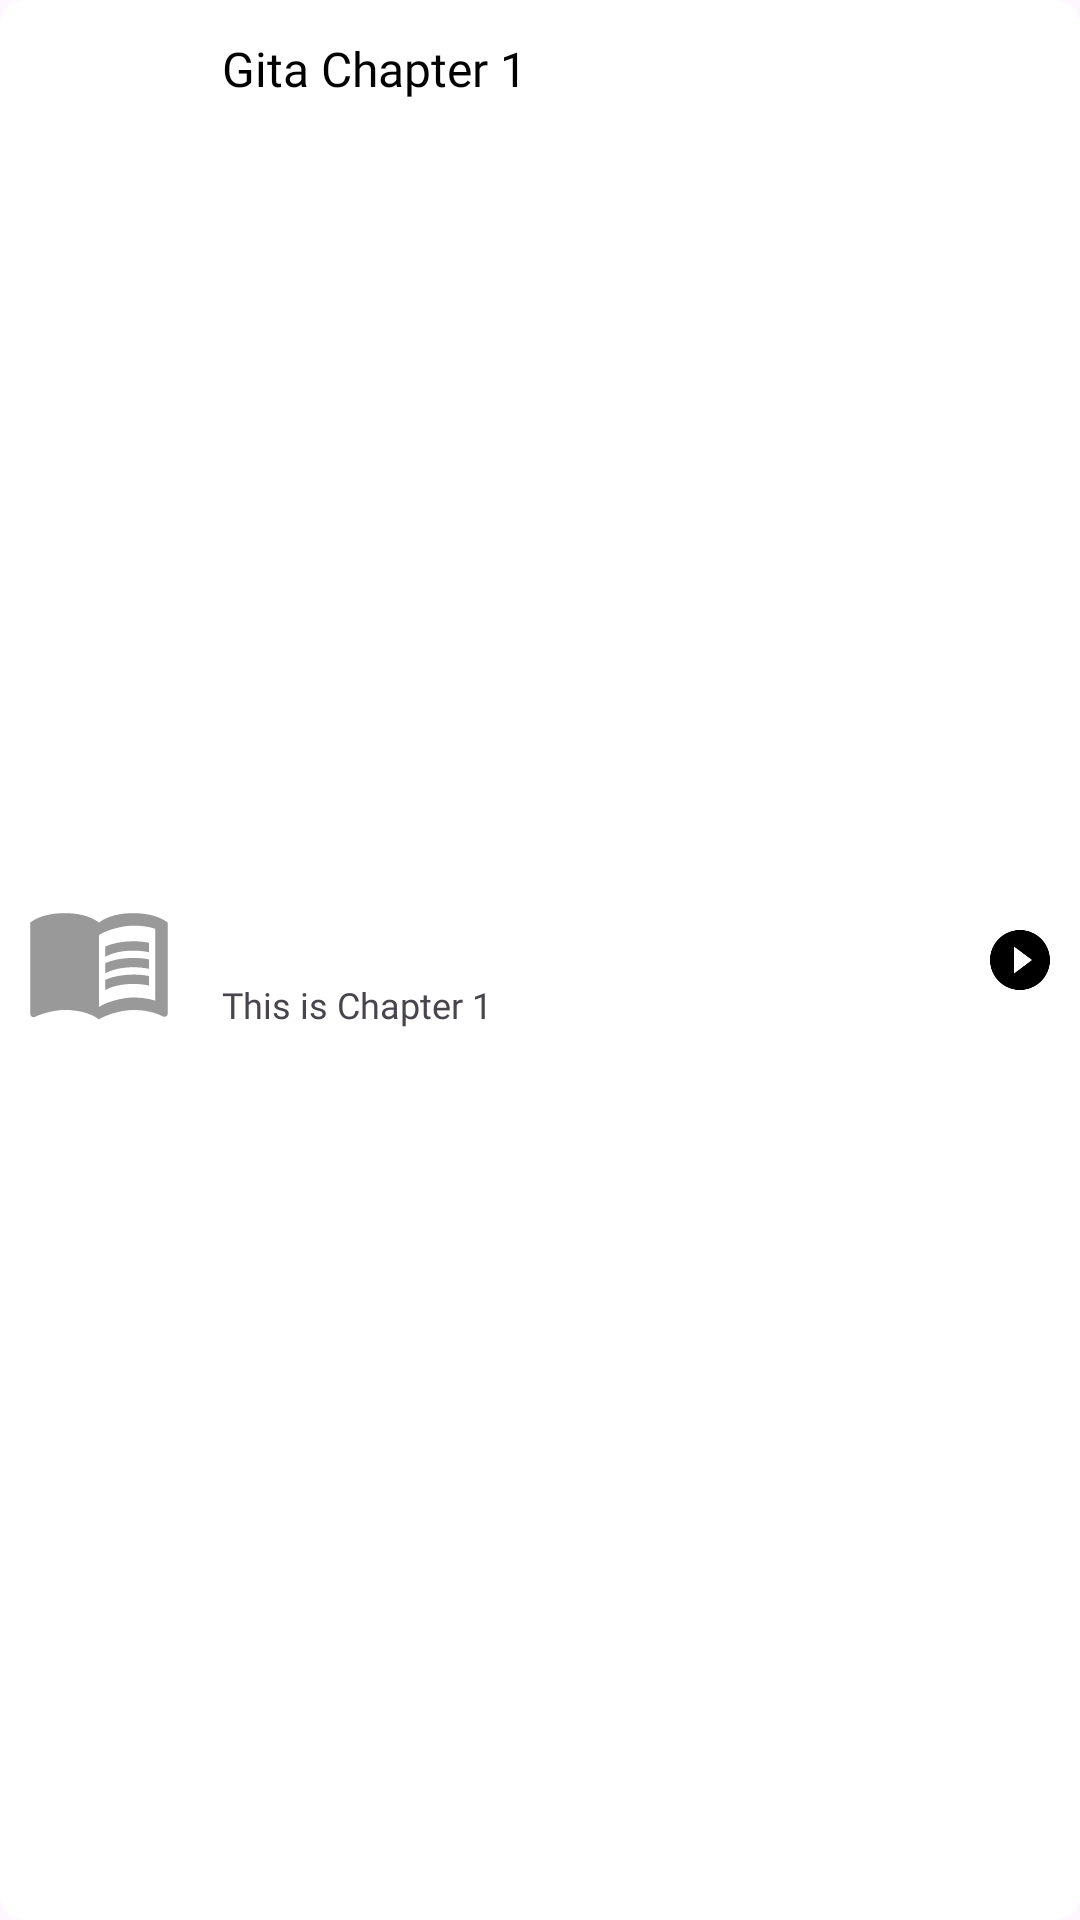

Where to tap for icons on this 1080w x 1920h app screen, as (x,y):
book: (99,966)
play circle: (1020,960)
